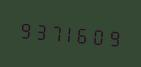nine: (17, 15, 31, 43), (107, 23, 121, 51)
one: (62, 19, 76, 47)
seven: (47, 18, 61, 46)
six: (77, 20, 91, 48)
three: (32, 16, 46, 44)
zero: (92, 21, 106, 50)
